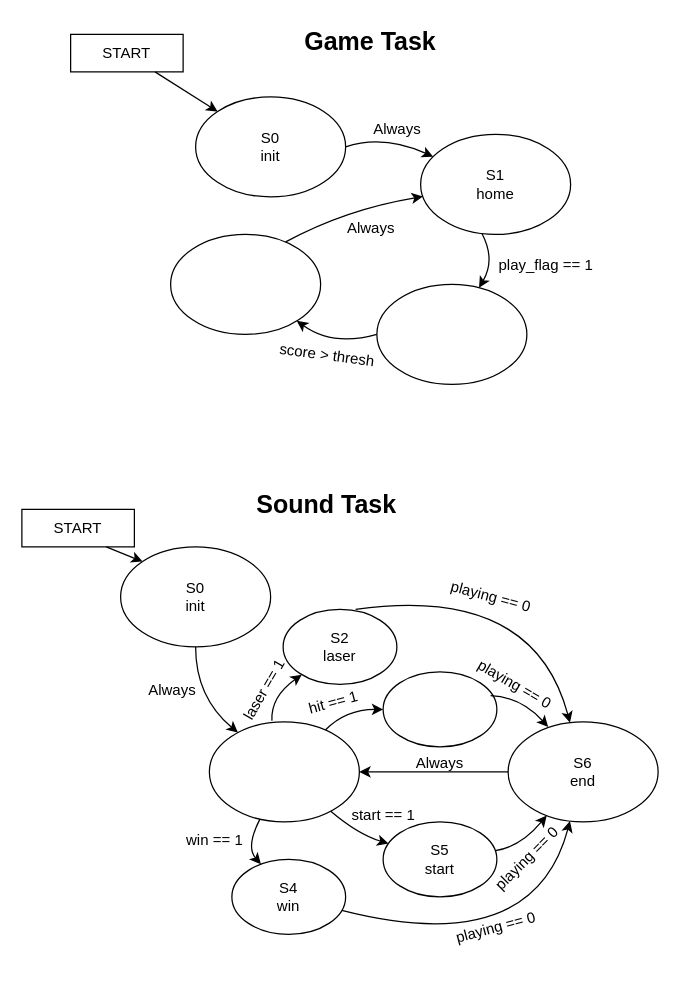
This 680x983 diagram has some shape labels left out. Here are the shapes that lost their labels. From the top down, the centre of each, then its label:
the point at 245,283: S3 end
the point at 451,333: S2 play
the point at 439,709: S3 hit
the point at 283,771: S1 wait
